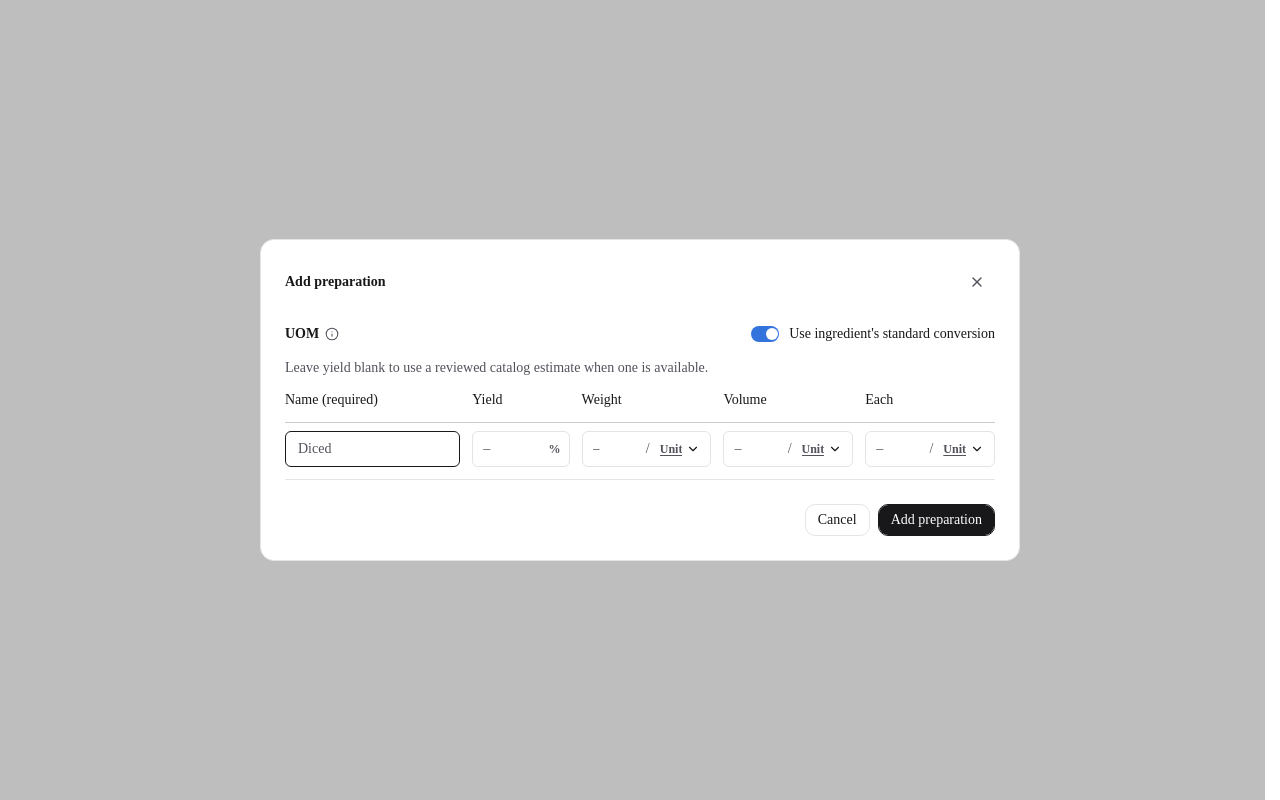
Test case: the preparation dialog's Add button › asks for a name instead of adding
The image size is (1280, 800).
Step 1. Click the button "Add preparation" → point(936, 520), box [878, 504, 995, 536]
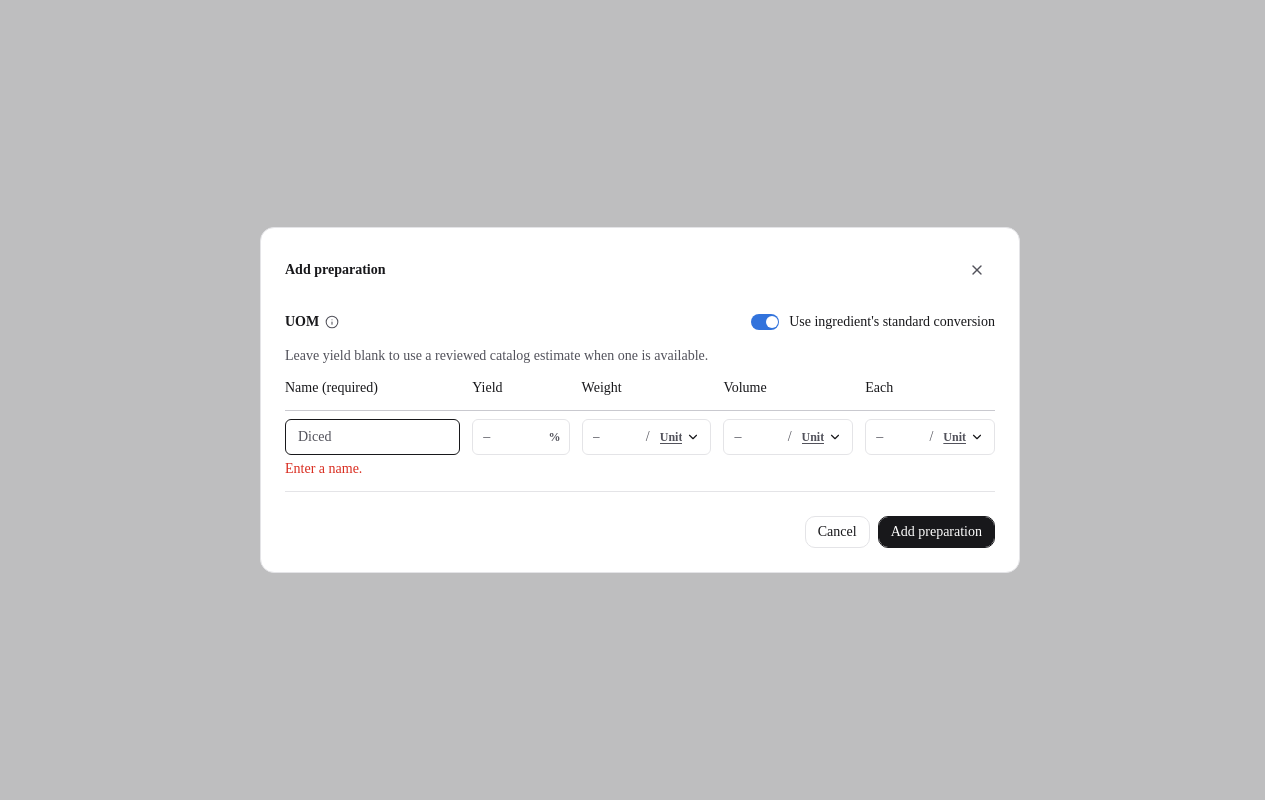
Expected: the message reads "Enter a name.", [285, 461, 362, 476]
